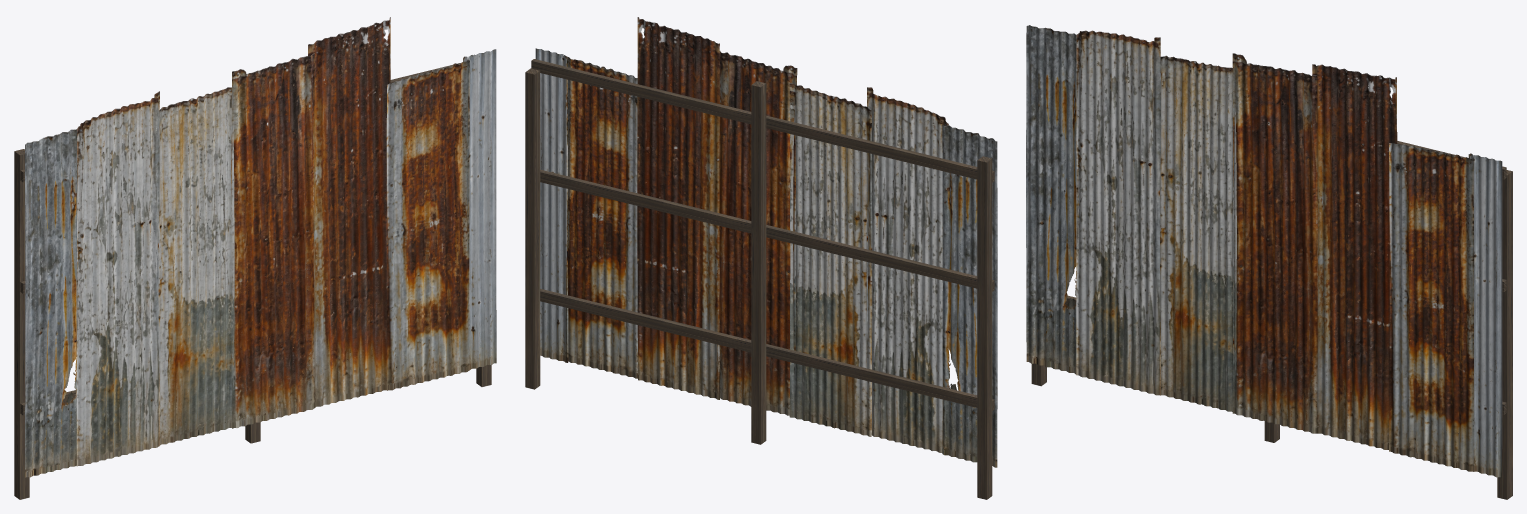
The model's file is pared_zinc_tramo_lod0.glb.
3 views of the same model, side by side, from view 1: azimuth 30°, elevation 25°; view 2: azimuth 150°, elevation 25°; view 3: azimuth 330°, elevation 25° (orthographic). The views are drawn at different scales.
Parts seen in each view (by area): view 1: Pared_Zinc_tramo; view 2: Pared_Zinc_tramo; view 3: Pared_Zinc_tramo.
Part boxes in pixels (<box>): Pared_Zinc_tramo: <box>14,17,496,499</box>; Pared_Zinc_tramo: <box>525,17,997,499</box>; Pared_Zinc_tramo: <box>1026,25,1512,499</box>.
Bounding box in the file's own units: 4.87 × 3.94 × 0.2236.
Materials: 1 (1 with a texture image).
